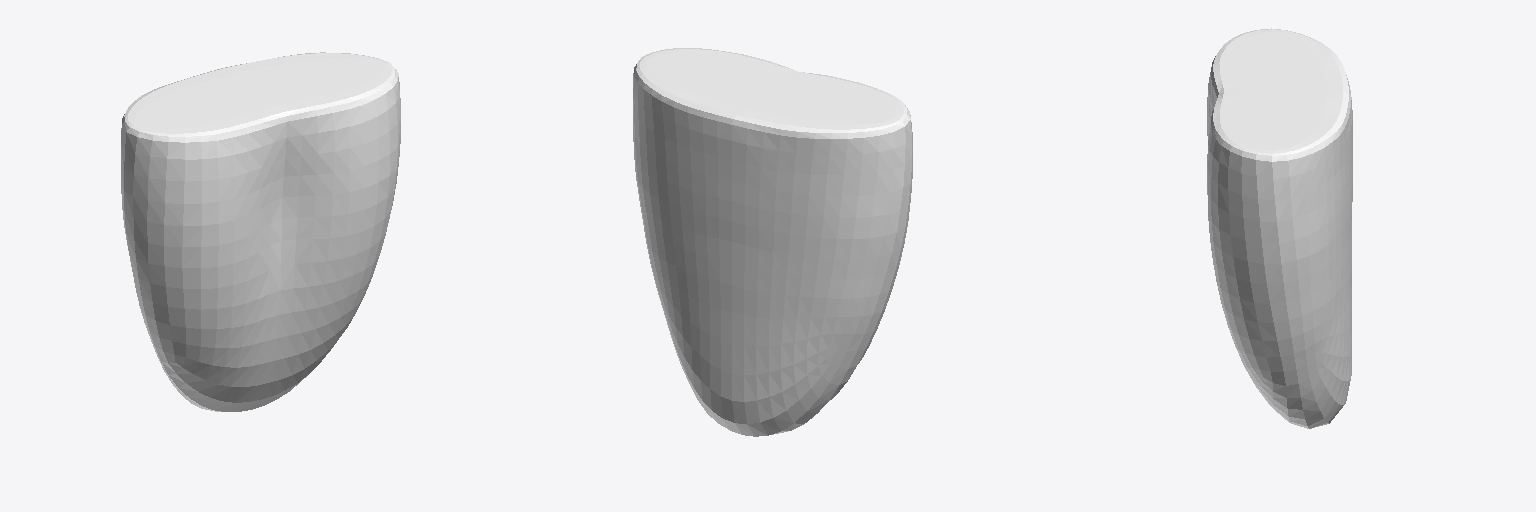
File: Tongue_Medical_Model_convert.obj
3 renders of one model, left to right at view 1: azimuth 30°, elevation 25°; view 2: azimuth 150°, elevation 25°; view 3: azimuth 270°, elevation 25°, orthographic.
Parts seen in each view (by area): view 1: Tongue_Medical_Model_pivot; view 2: Tongue_Medical_Model_pivot; view 3: Tongue_Medical_Model_pivot.
Boxes of the visible parts, <box> form: Tongue_Medical_Model_pivot: <box>121,52,400,411</box>; Tongue_Medical_Model_pivot: <box>633,48,912,436</box>; Tongue_Medical_Model_pivot: <box>1207,28,1352,428</box>.
Size of the model in its own units: 5.79 by 6.78 by 2.72.